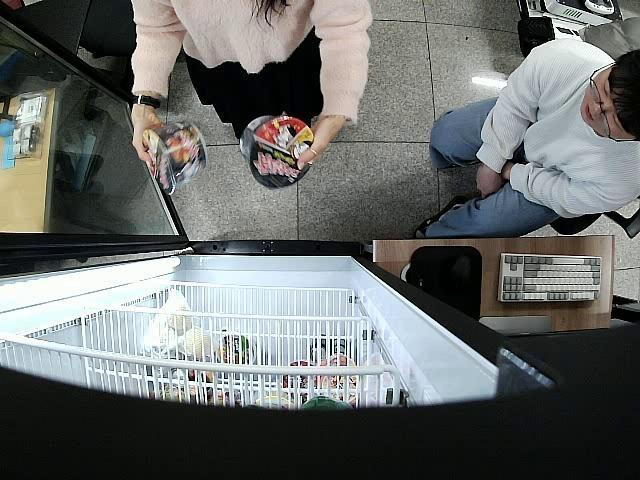07_buldak_L: (241, 115, 314, 190), (141, 118, 206, 196)
